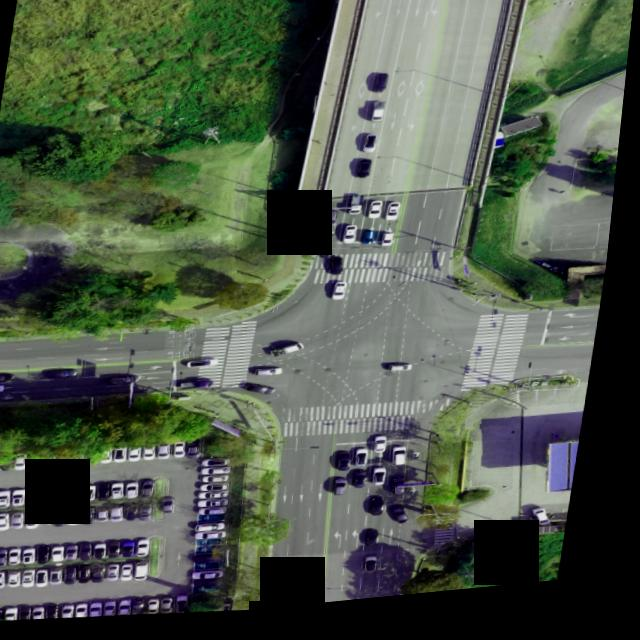car: (146, 566, 162, 584)
small_truck: (277, 347, 314, 366), (351, 201, 370, 224), (187, 384, 220, 396), (374, 108, 390, 130), (344, 485, 358, 504)
